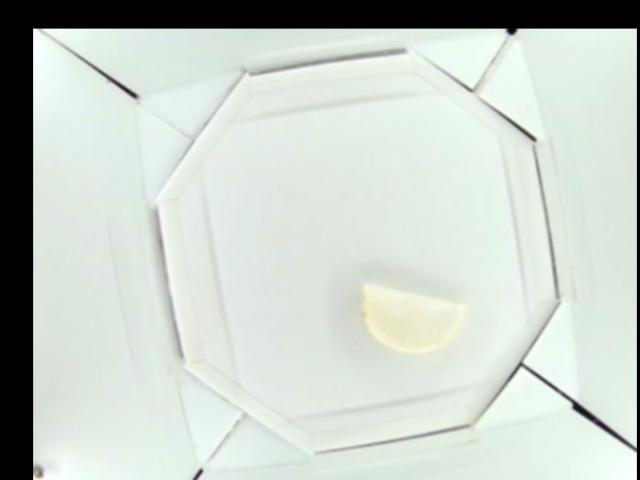Mooli: (361, 281, 464, 353)
